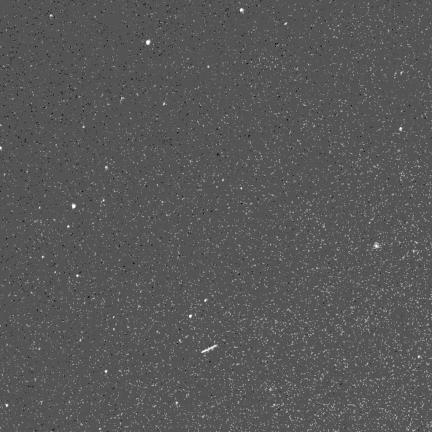blob: (146, 40, 151, 45), (72, 204, 76, 209), (189, 315, 193, 319), (240, 9, 244, 13), (76, 275, 80, 278), (6, 404, 9, 408), (205, 299, 208, 303), (208, 65, 211, 69), (105, 370, 108, 374), (42, 256, 45, 259), (68, 225, 70, 229), (106, 166, 108, 170), (400, 127, 402, 131)
